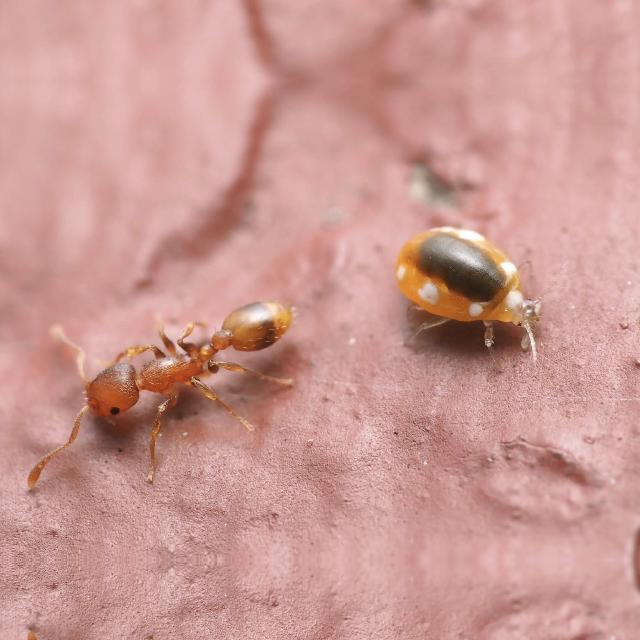Temnothorax: (44, 276, 316, 459)
